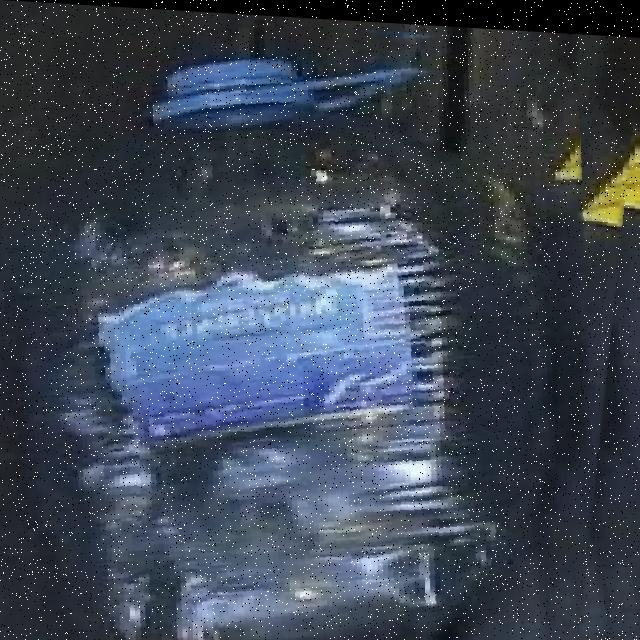litter: (0, 0, 640, 640), (153, 15, 480, 151)
